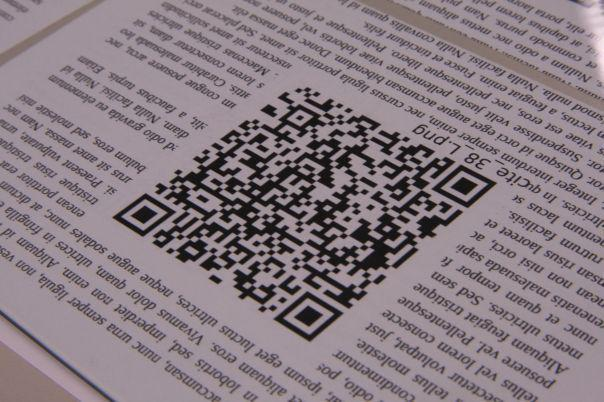qr_code: (112, 84, 497, 343)
